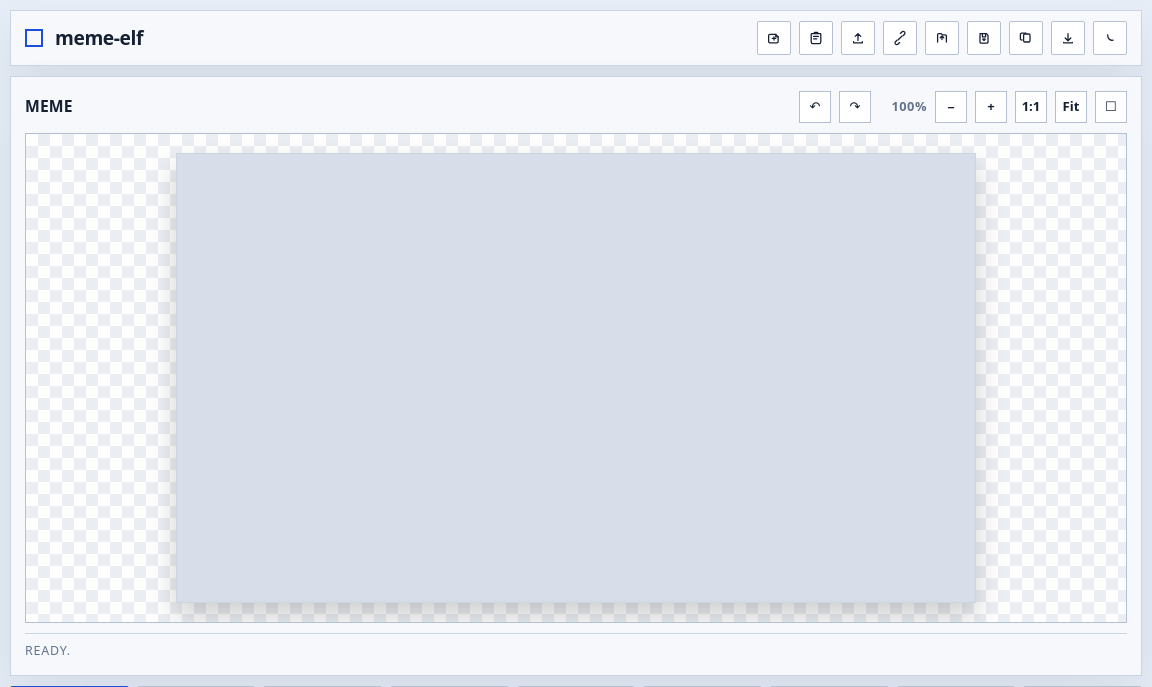
App › switches the manual theme from light to dark
Step 1. Click the button named "switch to dark theme" → click(1110, 38), box [1093,21,1127,55]
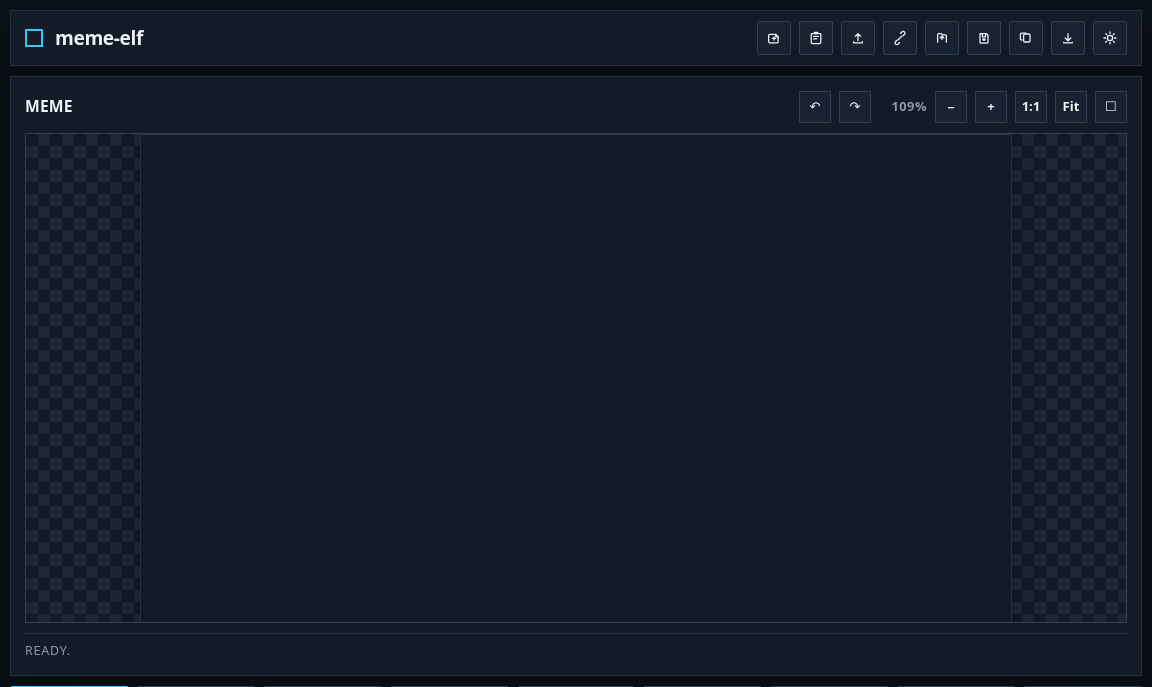
Check: the button named "switch to light theme" is shown, box [1093,21,1127,55]
